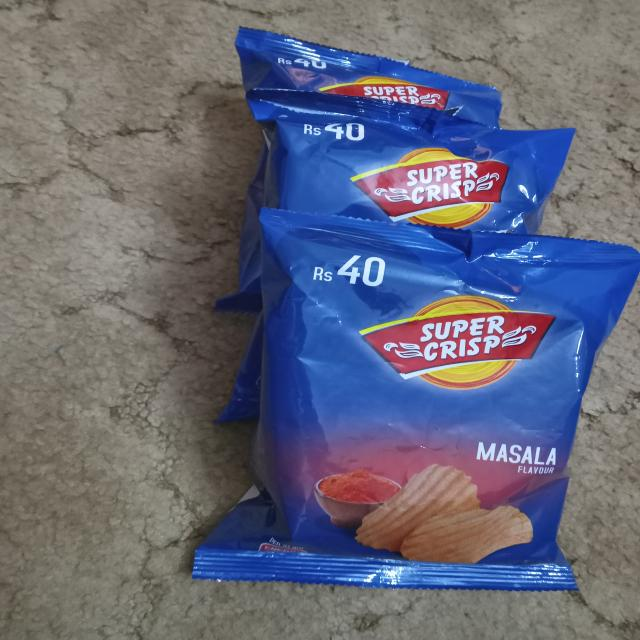Plastic: (255, 211, 640, 611), (236, 85, 578, 229), (242, 26, 501, 119)
